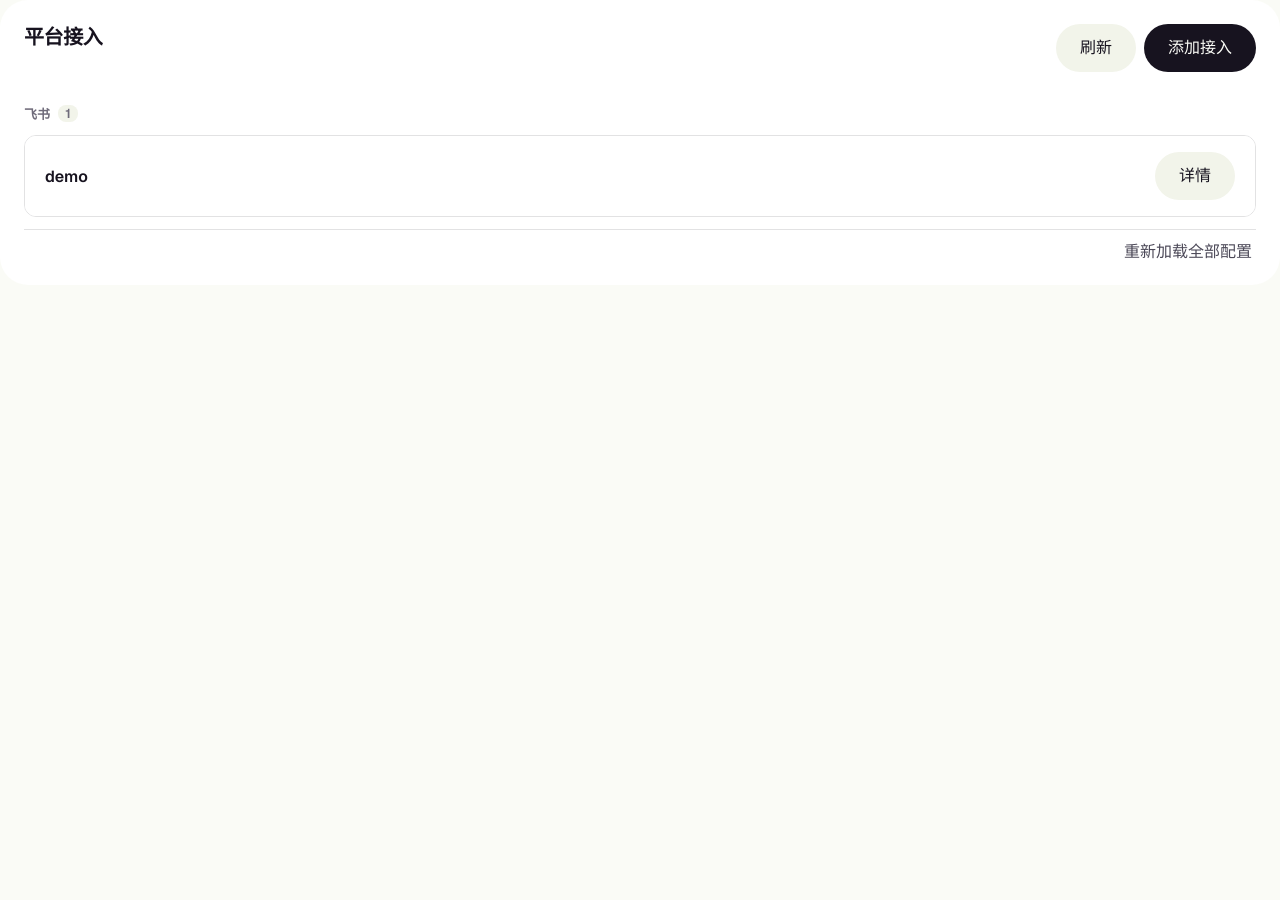
it: requires the running platform to stop before confirmation
This screenshot has width=1280, height=900.
Expected: the text "demo" is shown, [45,166,88,186]
Step 1. Click the button "详情" → (1195,176), box [1155,152,1235,200]
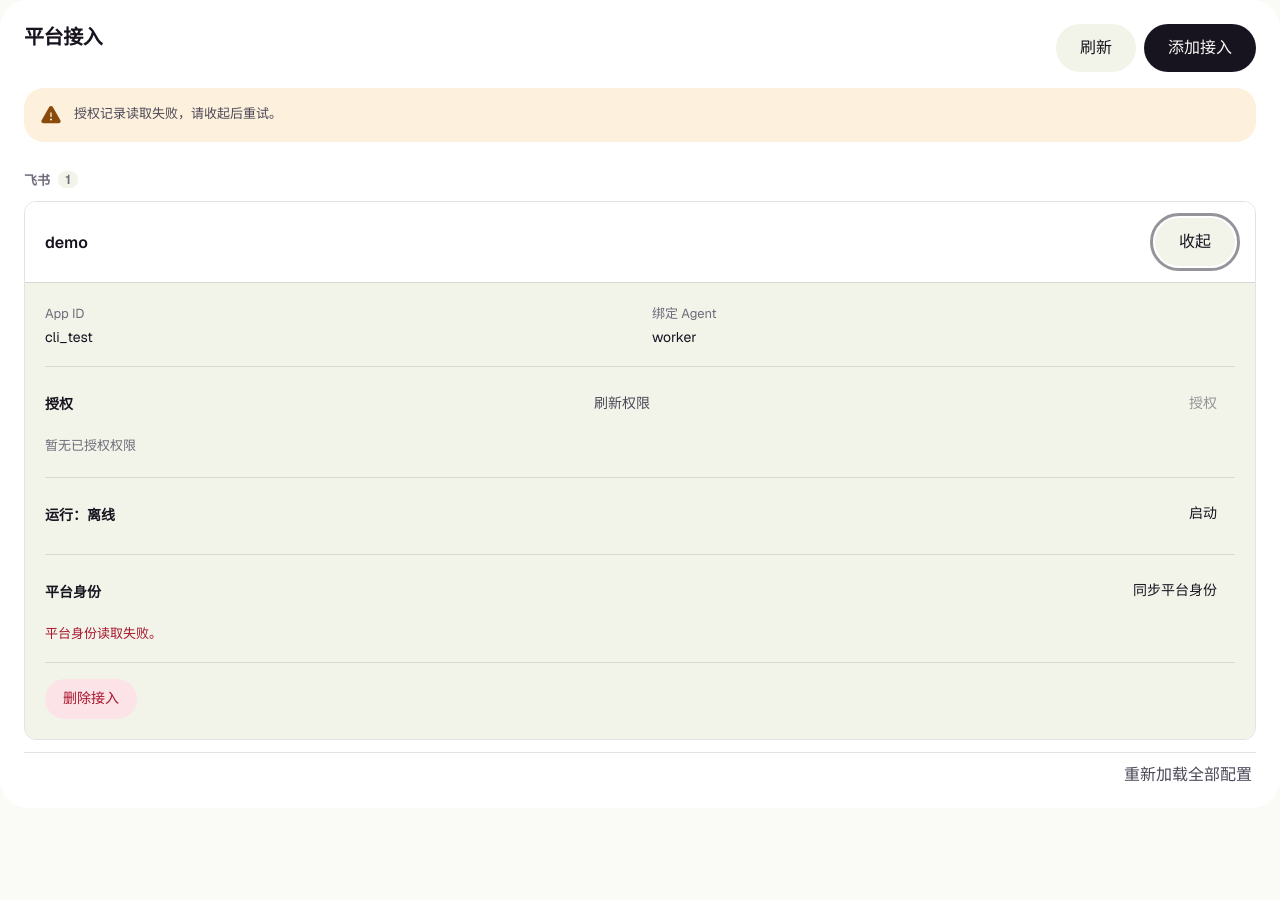
Step 2. Click the button "删除接入" → (91,699), box [45,679,137,719]
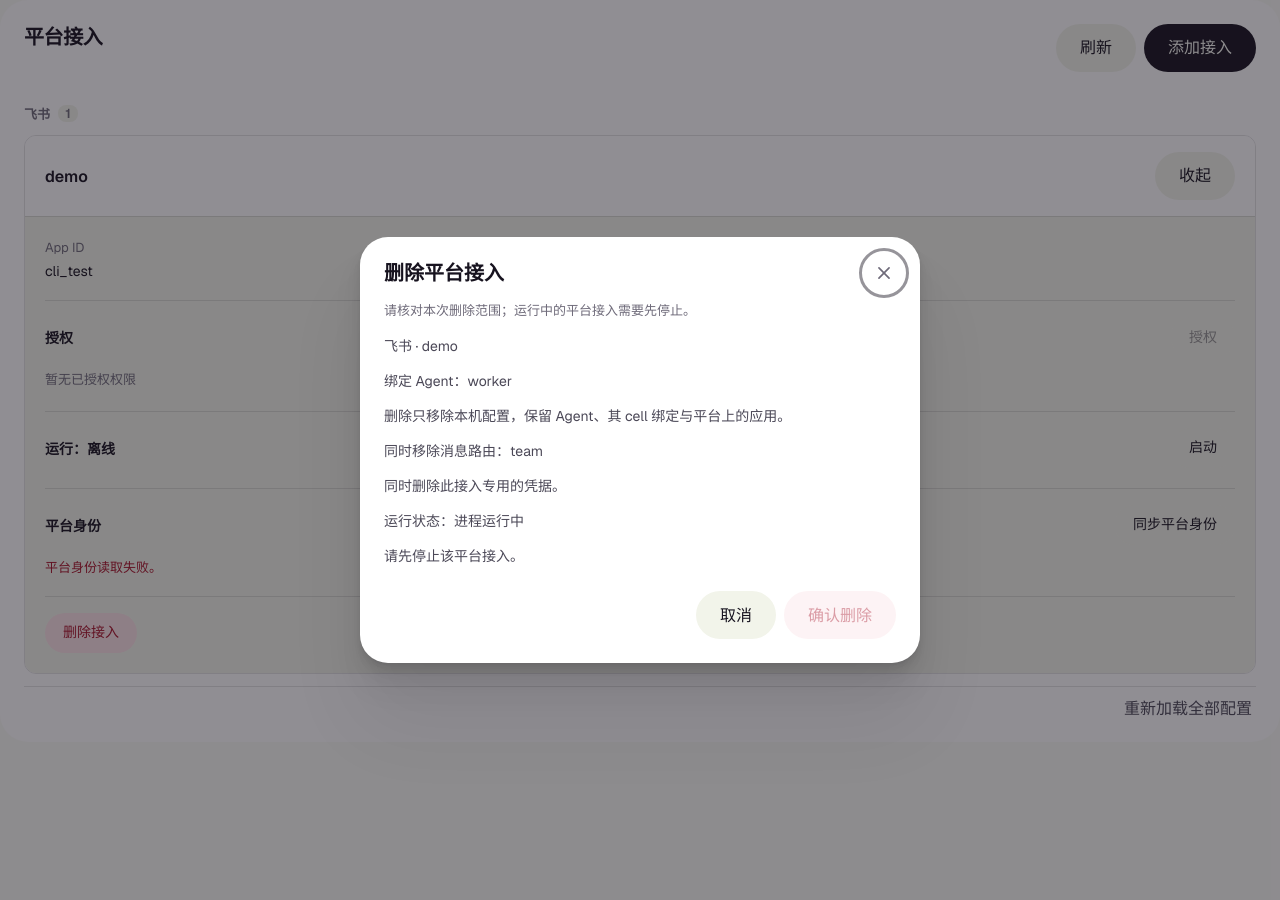
Result: the text "请先停止该平台接入。" is shown at [384,547,524,565]
Result: the button "确认删除" is disabled at [784,591,896,639]
